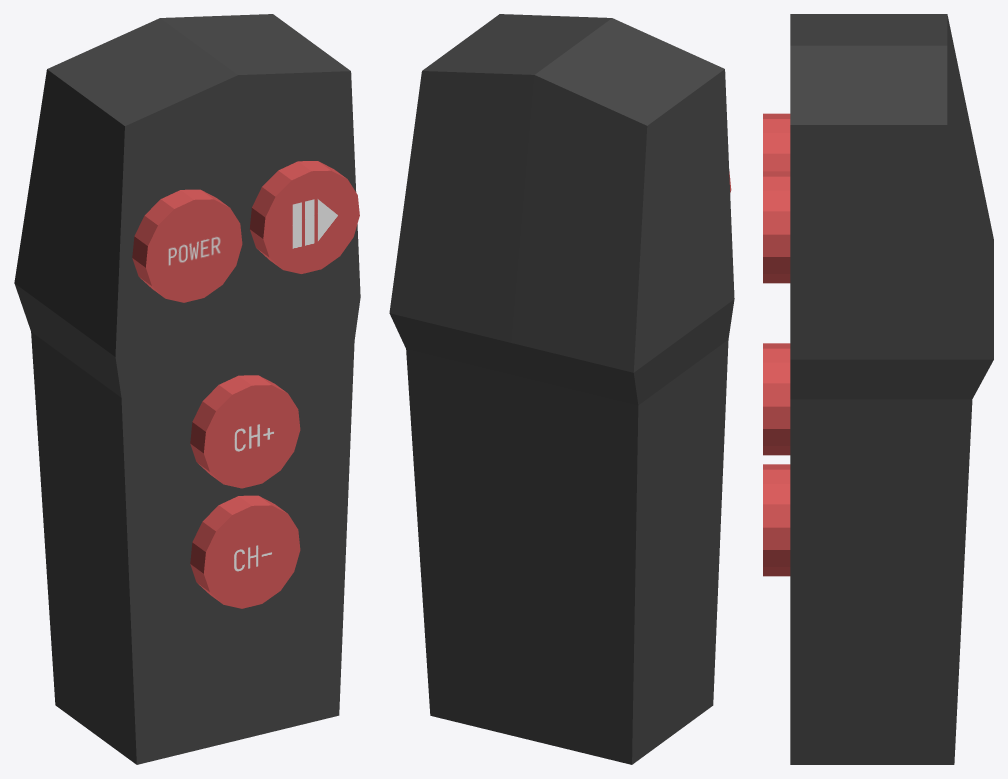
The model's file is remote.glb.
3 views of the same model, side by side, from view 1: azimuth 30°, elevation 25°; view 2: azimuth 150°, elevation 25°; view 3: azimuth 270°, elevation 25° (orthographic).
Visible parts, largest first — view 1: Remote_Body, Remote_Power, Remote_CH_Down, Remote_CH_Up, Remote_PlayPause; view 2: Remote_Body; view 3: Remote_Body, Remote_CH_Down, Remote_CH_Up, Remote_PlayPause, Remote_Power.
Boxes of the visible parts, bbox=[...] form: Remote_Body: bbox=[14, 14, 360, 764]; Remote_Power: bbox=[132, 189, 242, 302]; Remote_CH_Down: bbox=[190, 495, 300, 608]; Remote_CH_Up: bbox=[190, 375, 300, 488]; Remote_PlayPause: bbox=[249, 161, 359, 273]; Remote_Body: bbox=[389, 14, 734, 764]; Remote_Body: bbox=[790, 14, 993, 764]; Remote_CH_Down: bbox=[763, 464, 790, 576]; Remote_CH_Up: bbox=[763, 343, 790, 455]; Remote_PlayPause: bbox=[763, 171, 790, 283]; Remote_Power: bbox=[763, 113, 790, 171].
Size of the model in its own units: 2 by 5.19 by 1.62.
Materials: 2 (1 with a texture image).
